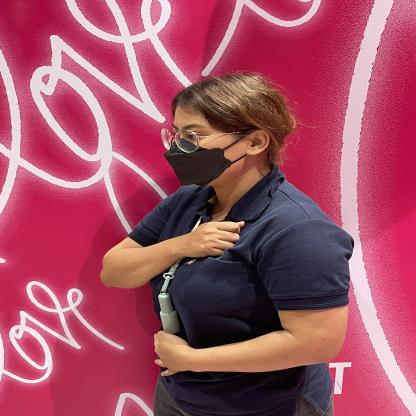Sadness: (118, 196, 282, 284)
